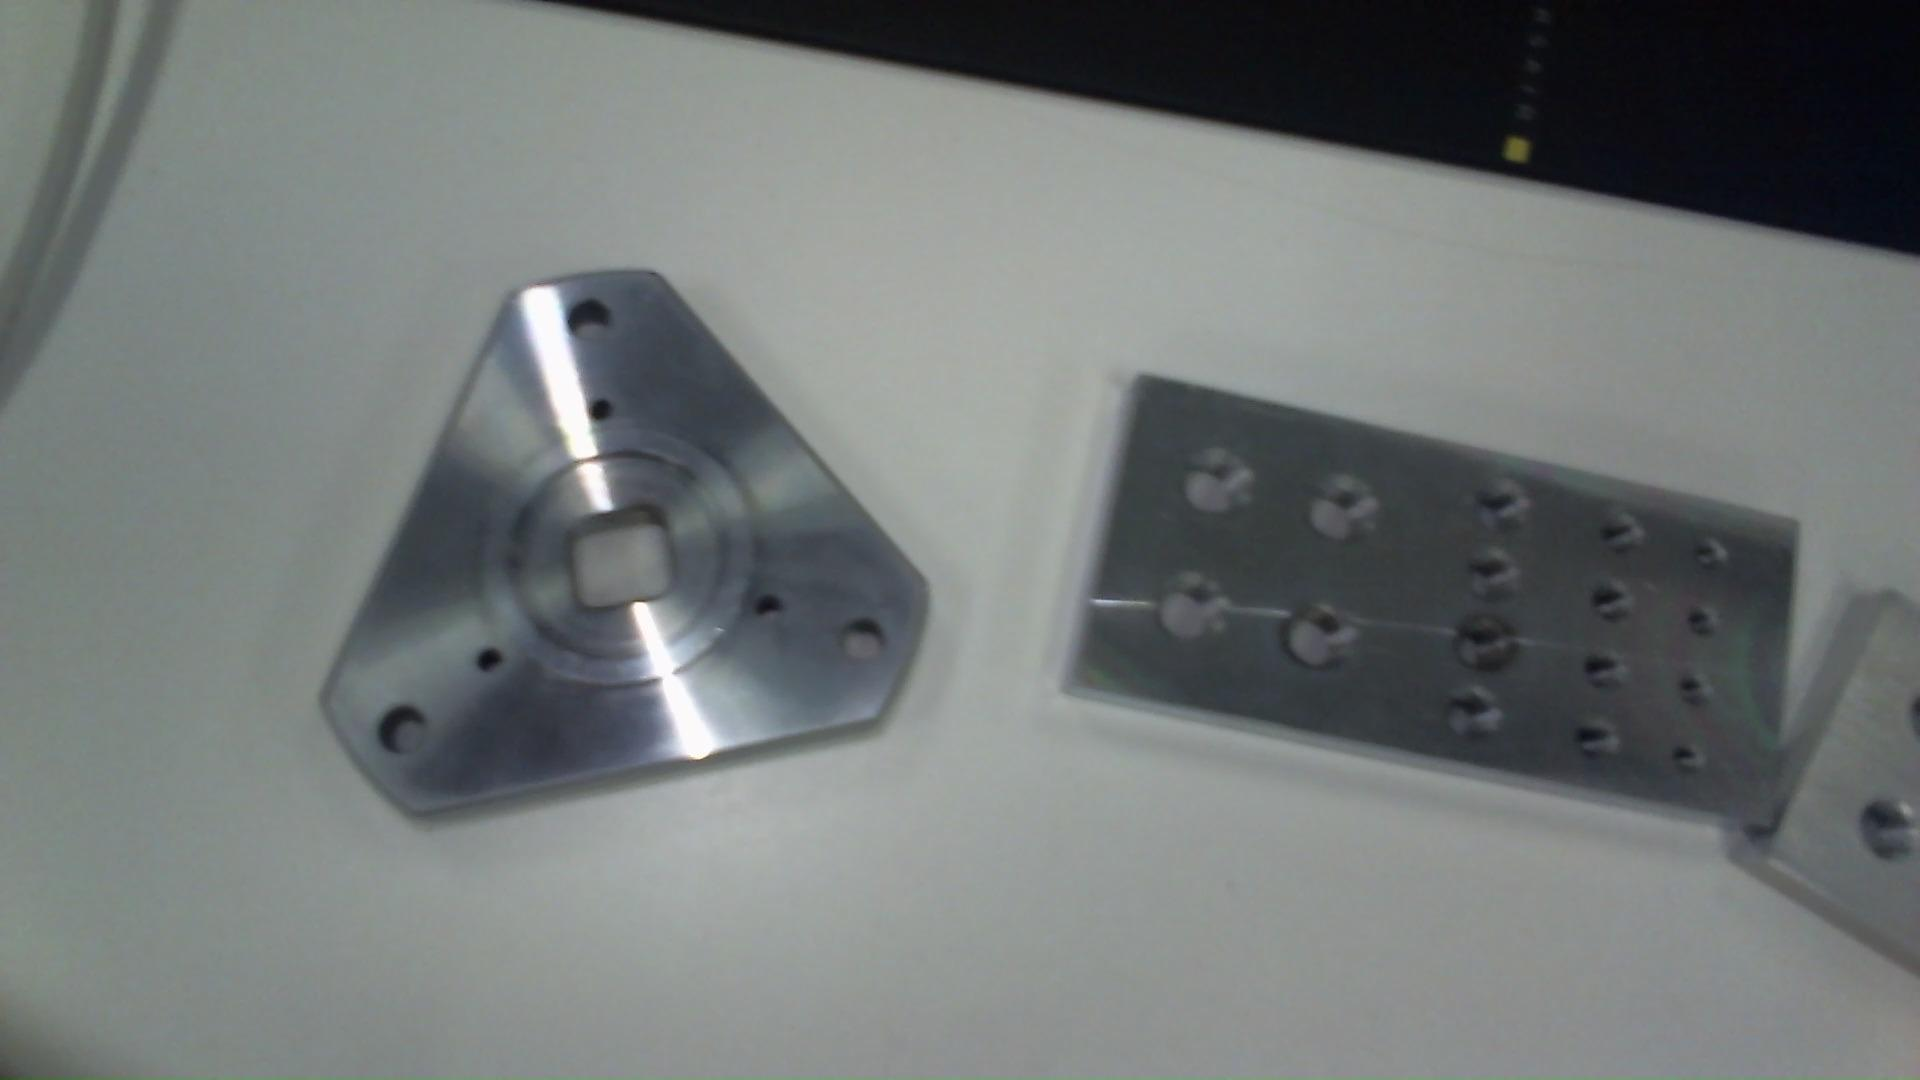hole: (1149, 560, 1241, 651), (1280, 589, 1369, 683), (1174, 439, 1261, 531), (1300, 458, 1393, 545), (1466, 476, 1545, 538), (1865, 787, 1920, 876), (1457, 541, 1542, 597), (1440, 687, 1514, 752), (1563, 719, 1635, 782), (367, 703, 434, 770), (1451, 613, 1523, 671), (831, 615, 895, 678), (556, 294, 617, 356), (1586, 505, 1650, 556), (1578, 649, 1639, 699), (1669, 728, 1720, 785), (1680, 595, 1726, 651), (1683, 524, 1733, 574), (579, 386, 629, 435), (1578, 582, 1627, 630), (462, 641, 512, 683), (1671, 673, 1718, 715), (749, 589, 787, 630)
